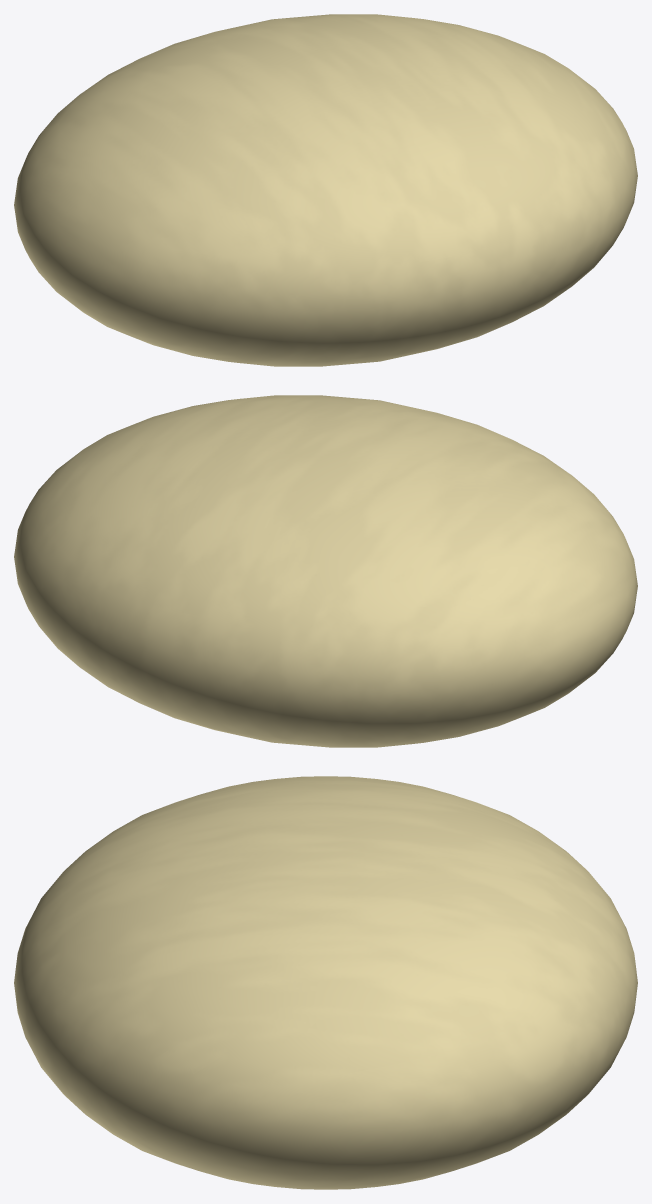
File: cpart_throat_sac.glb
3 renders of one model, top to bottom at view 1: azimuth 30°, elevation 25°; view 2: azimuth 150°, elevation 25°; view 3: azimuth 270°, elevation 25°, orthographic. The views are drawn at different scales.
Parts seen in each view (by area): view 1: ThroatSac; view 2: ThroatSac; view 3: ThroatSac.
Part boxes in pixels (left/top/right/bottom): ThroatSac: left=14, top=14, right=637, bottom=366; ThroatSac: left=14, top=395, right=637, bottom=747; ThroatSac: left=14, top=776, right=637, bottom=1189.
Bounding box in the file's own units: 0.092 × 0.04 × 0.08.
1 material, 1 textured.
